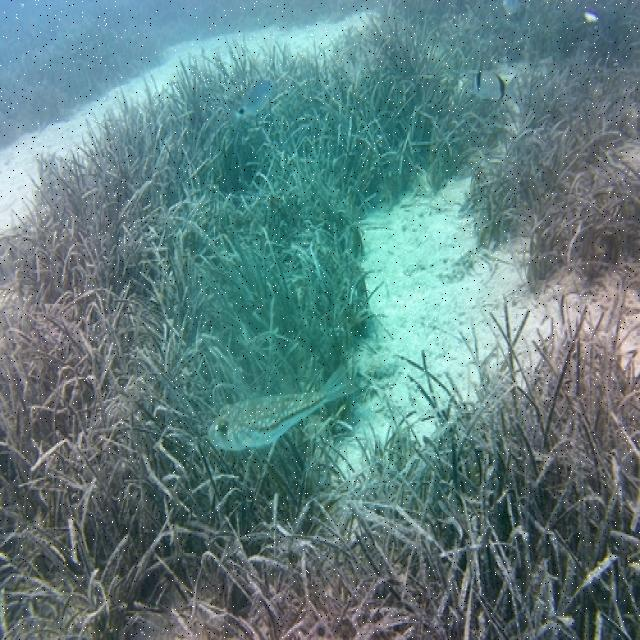Balik: (209, 369, 355, 450), (232, 79, 272, 121), (473, 70, 506, 100)
